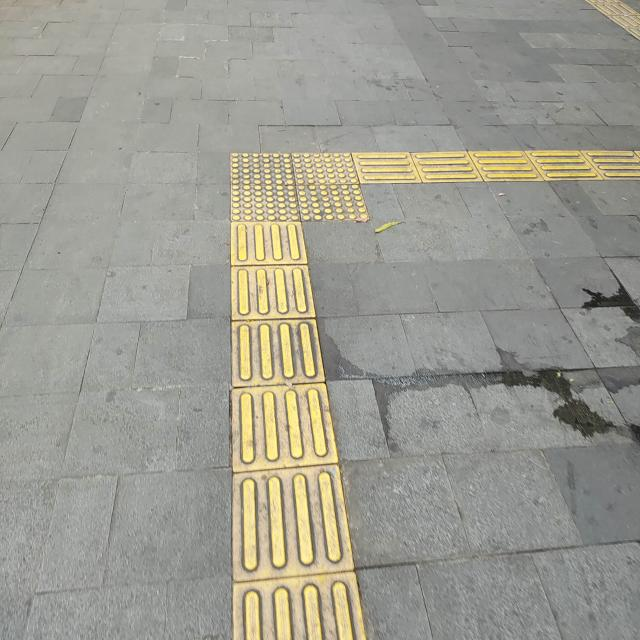kanan: (194, 122, 488, 249)
